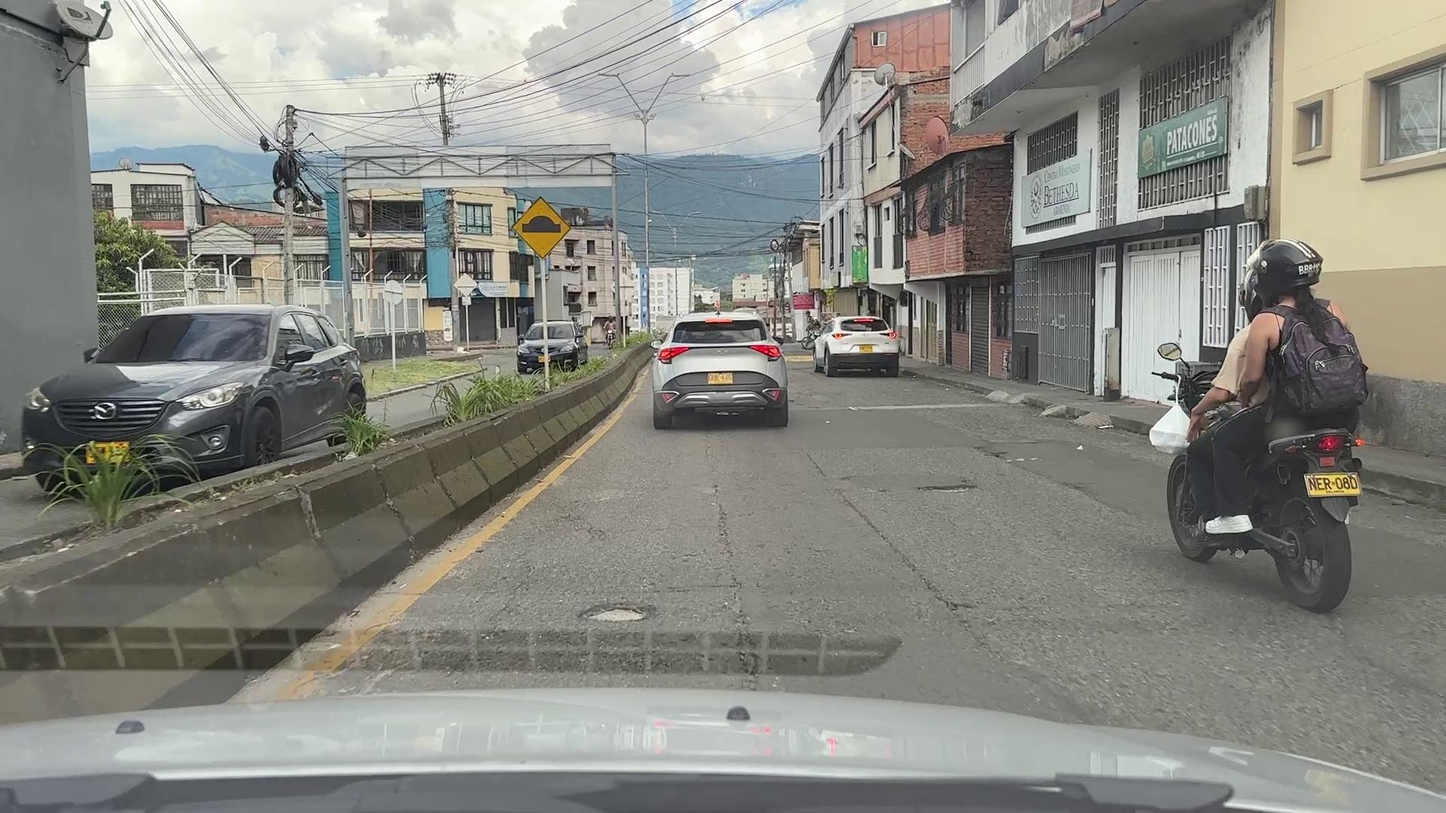bache: (586, 608, 643, 622), (918, 485, 975, 493)
grieta: (718, 504, 759, 691)
